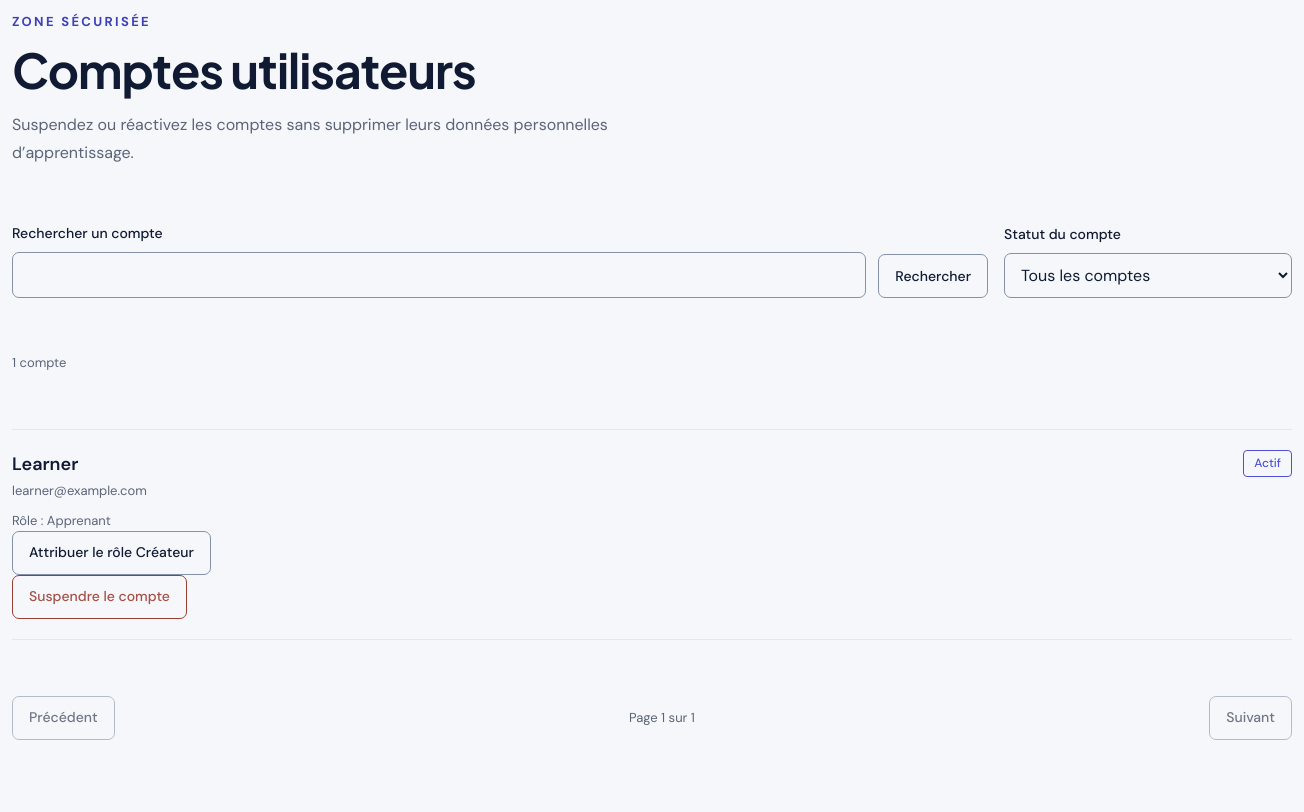
Test: AdminAccountsPage › attribue Créateur après une confirmation qui explicite sa frontière
Click the button "Attribuer le rôle Créateur": [111, 553] box [12,531,211,575]
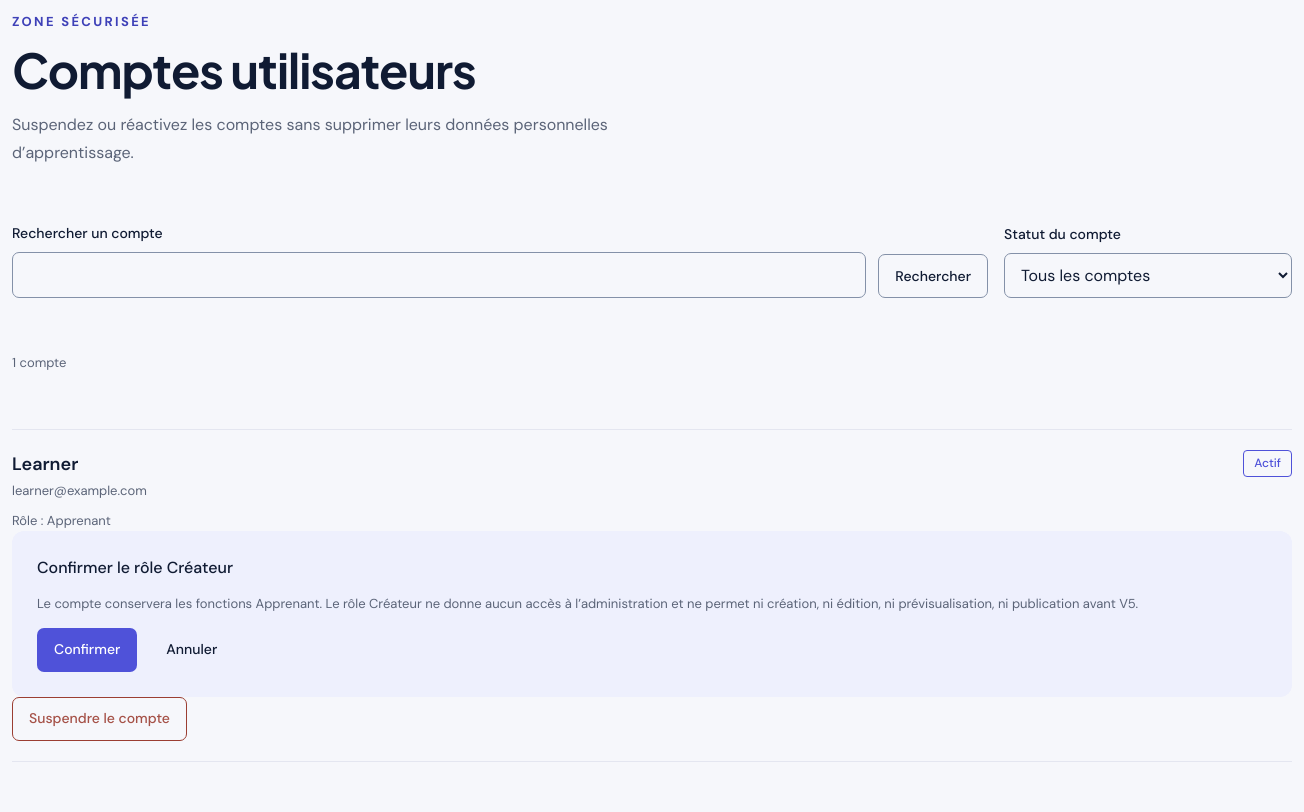
Expected: the text "aucun accès à l’administration" shows "ni création, ni édition, ni prévisualisation, ni publication avant V5", [37,595,1138,612]
Click the button "Confirmer": [87, 650] box [37,628,137,672]
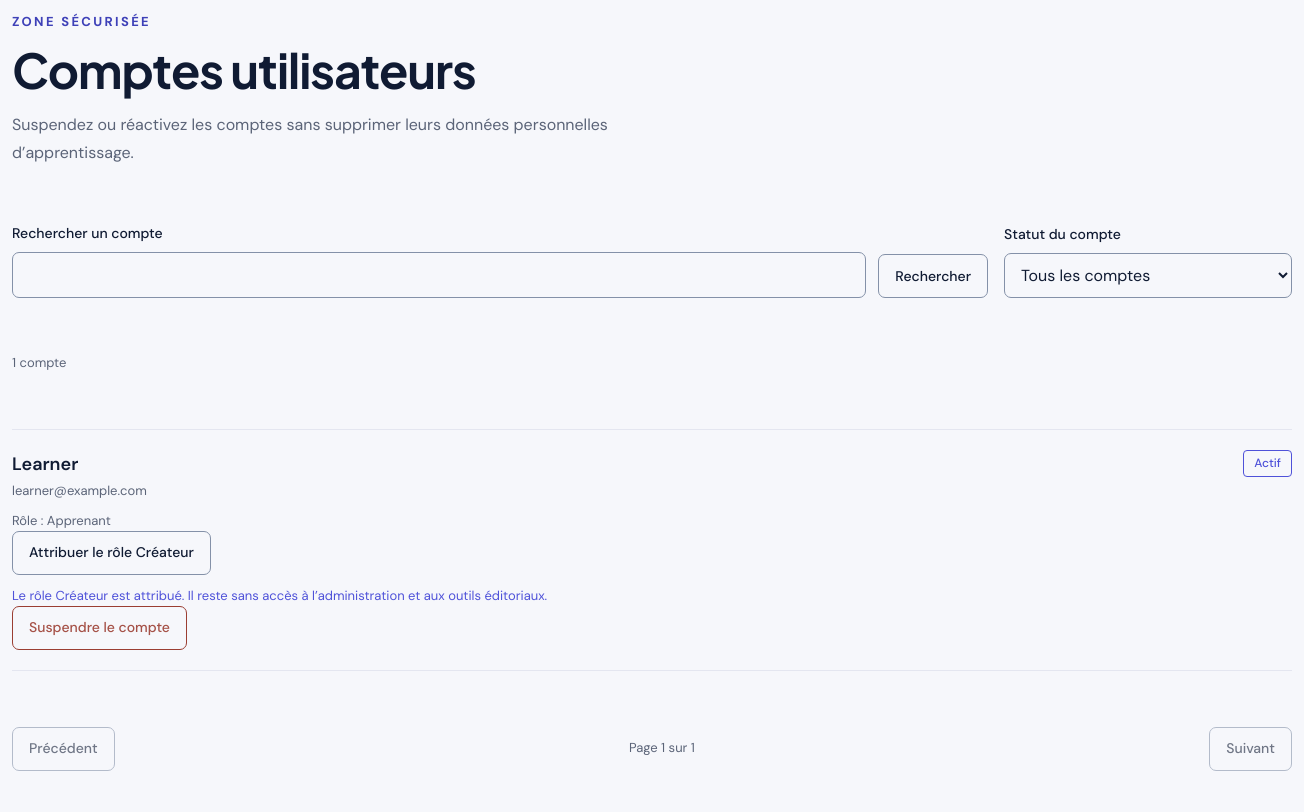
Expected: the text "Le rôle Créateur est attribué" is shown, [12,587,547,604]
